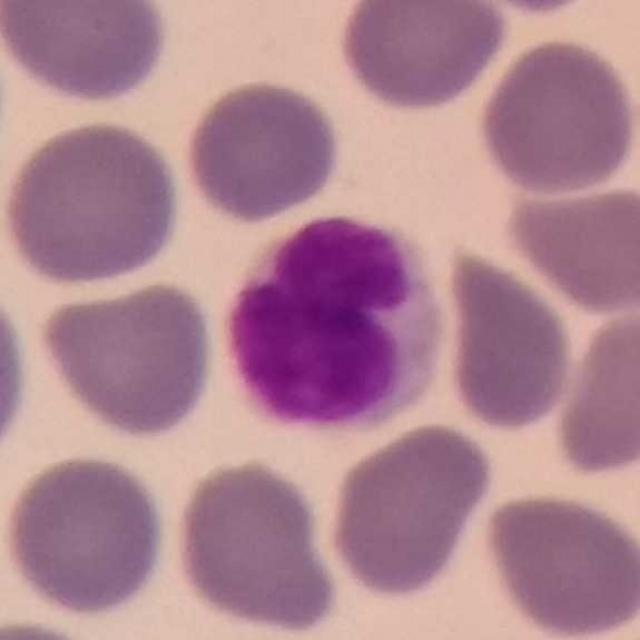Lymphocyte: (213, 207, 454, 439)
RBC: (0, 114, 186, 290), (169, 454, 344, 638), (324, 418, 497, 604), (35, 275, 222, 442), (0, 449, 171, 620), (474, 34, 639, 200), (437, 244, 579, 436), (179, 75, 345, 226), (478, 487, 640, 640), (497, 170, 640, 317), (333, 0, 510, 116), (0, 0, 175, 108), (549, 302, 639, 483), (0, 304, 36, 444), (1, 614, 116, 640), (463, 0, 608, 19)
